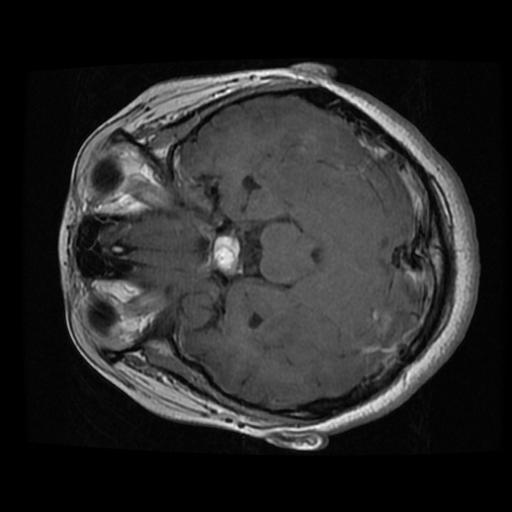pituitary tumour: (213, 235, 239, 275)
